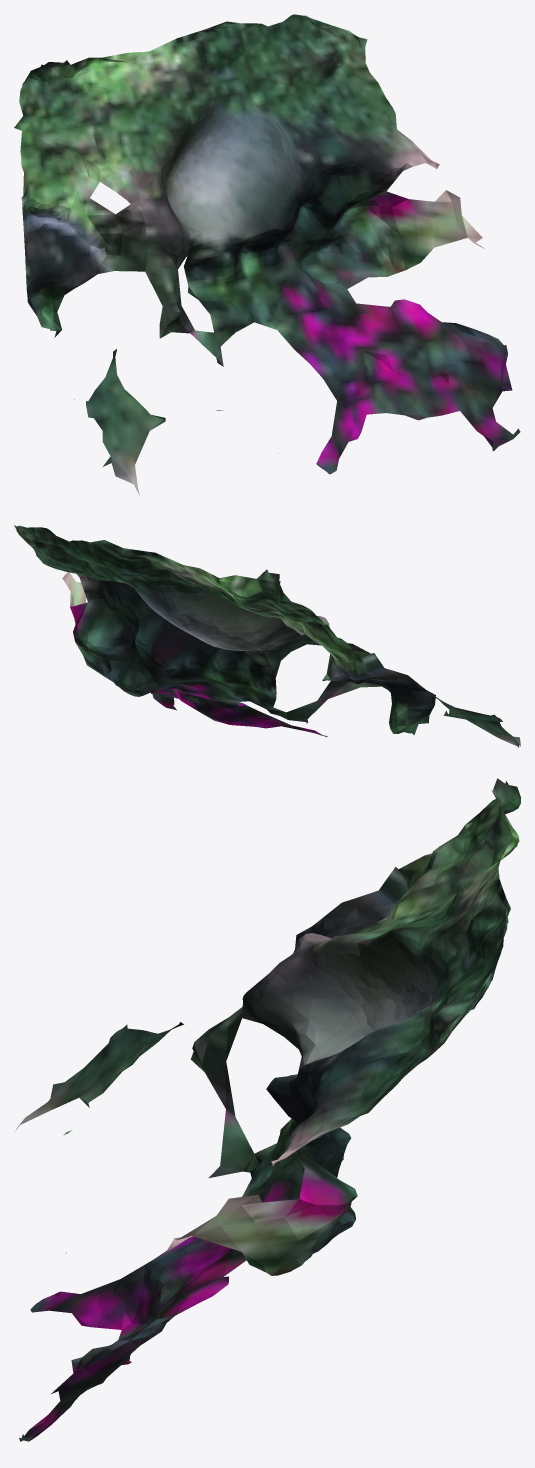
File: texturedMesh.obj
The picture shows the model from 3 angles, top to bottom: view 1: azimuth 30°, elevation 25°; view 2: azimuth 150°, elevation 25°; view 3: azimuth 270°, elevation 25°; orthographic projection. The views are drawn at different scales.
Parts seen in each view (by area): view 1: TexturedMesh; view 2: TexturedMesh; view 3: TexturedMesh.
Part boxes in pixels (x1,y1,x2,y2): TexturedMesh: [14, 14, 520, 495]; TexturedMesh: [14, 525, 520, 747]; TexturedMesh: [15, 778, 520, 1441].
Bounding box in the file's own units: 1.88 × 1.48 × 1.39.
1 material, 1 textured.
